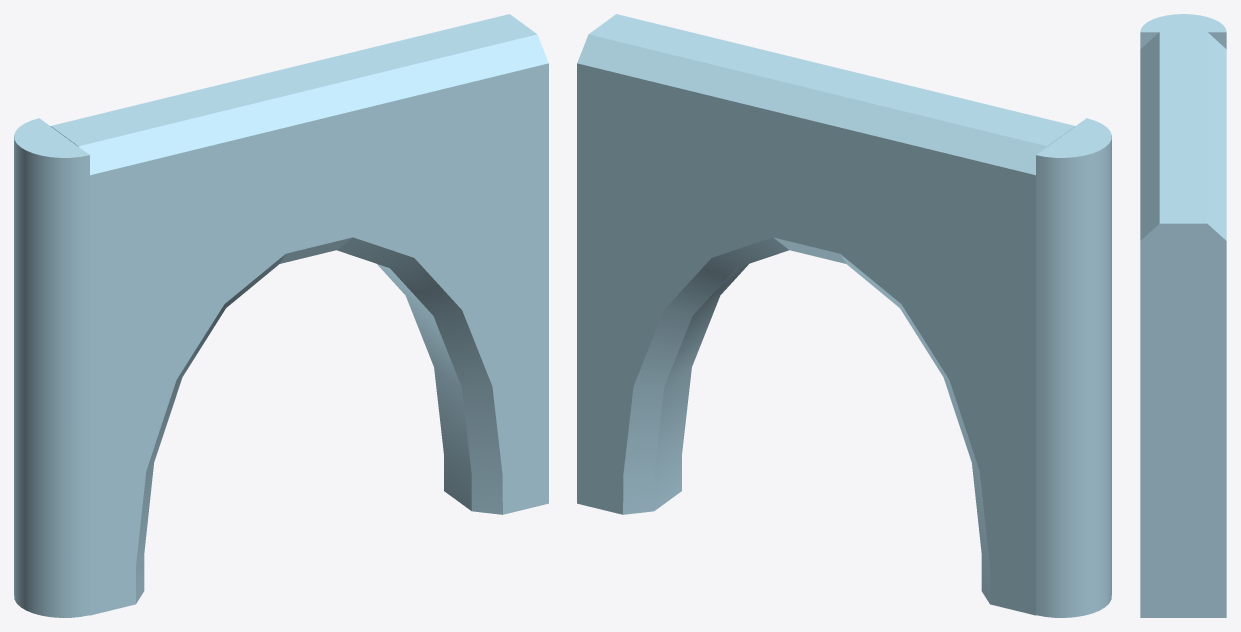
The model's file is Arch_R2D10_CrystalFacet.fbx.
The picture shows the model from 3 angles, left to right: view 1: azimuth 30°, elevation 25°; view 2: azimuth 150°, elevation 25°; view 3: azimuth 270°, elevation 25°; orthographic projection. The views are drawn at different scales.
Parts seen in each view (by area): view 1: Arch_R2D10_CrystalFacet; view 2: Arch_R2D10_CrystalFacet; view 3: Arch_R2D10_CrystalFacet.
Boxes of the visible parts, left/top/right/bottom form: Arch_R2D10_CrystalFacet: left=14, top=14, right=548, bottom=617; Arch_R2D10_CrystalFacet: left=577, top=14, right=1111, bottom=617; Arch_R2D10_CrystalFacet: left=1140, top=14, right=1226, bottom=617.
Bounding box in the file's own units: 2.29 × 2.01 × 0.4.
